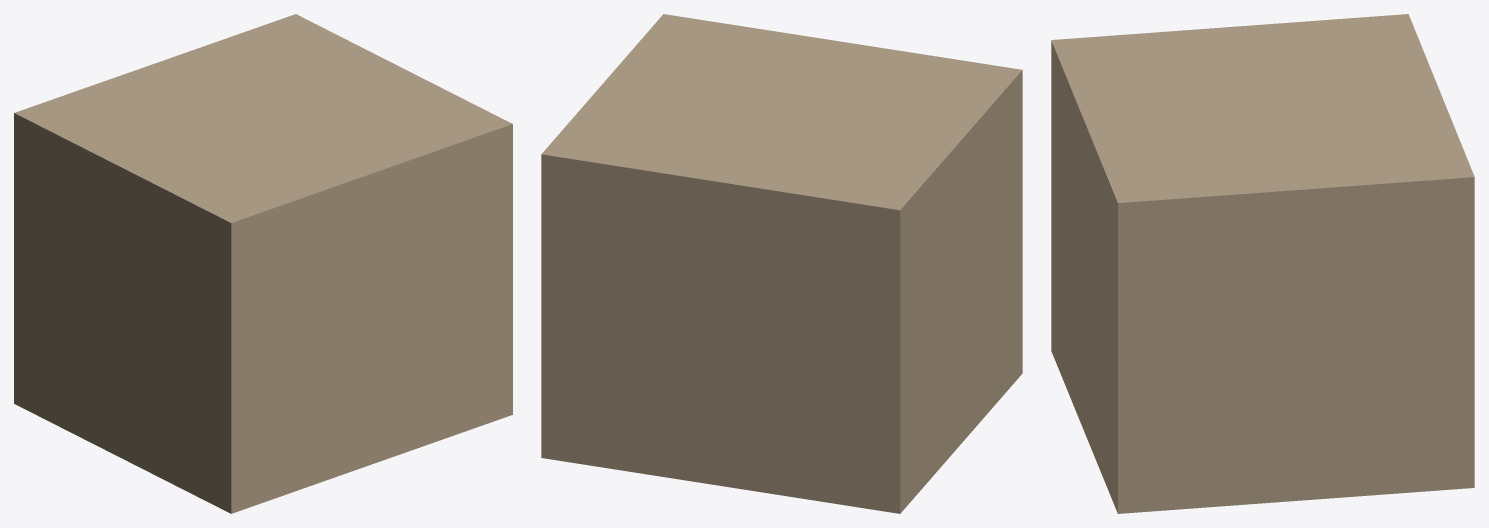
The model's file is bld_107639317.dae.
The picture shows the model from 3 angles, left to right: view 1: azimuth 30°, elevation 25°; view 2: azimuth 150°, elevation 25°; view 3: azimuth 270°, elevation 25°; orthographic projection. The views are drawn at different scales.
Visible parts, largest first — view 1: bld_107639317; view 2: bld_107639317; view 3: bld_107639317.
Boxes of the visible parts, x1,y1,x2,y2 form: bld_107639317: (14,14,512,513); bld_107639317: (541,14,1022,513); bld_107639317: (1051,14,1474,513).
Bounding box in the file's own units: 10.44 × 9.88 × 8.
